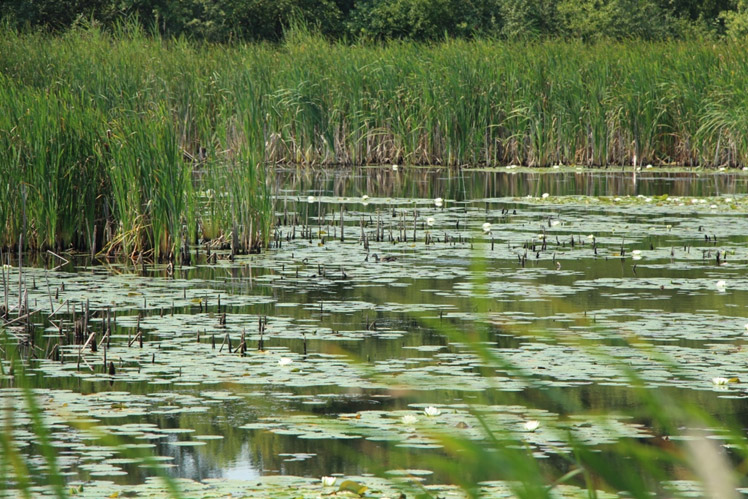vegetation: (11, 1, 748, 162), (4, 1, 182, 258), (197, 144, 275, 248)
water: (1, 129, 748, 499)
